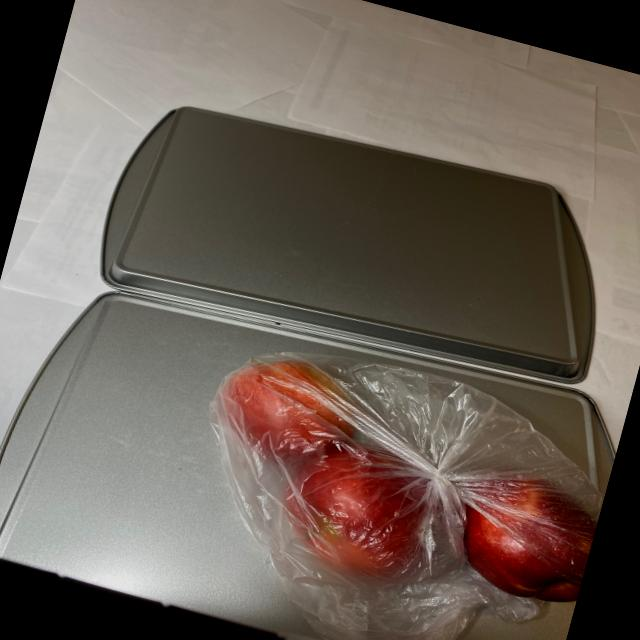apple: (173, 338, 615, 640)
